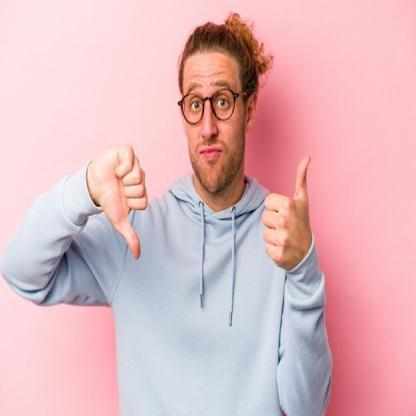thumb_down: (82, 140, 154, 262)
thumb_up: (260, 150, 318, 273)
